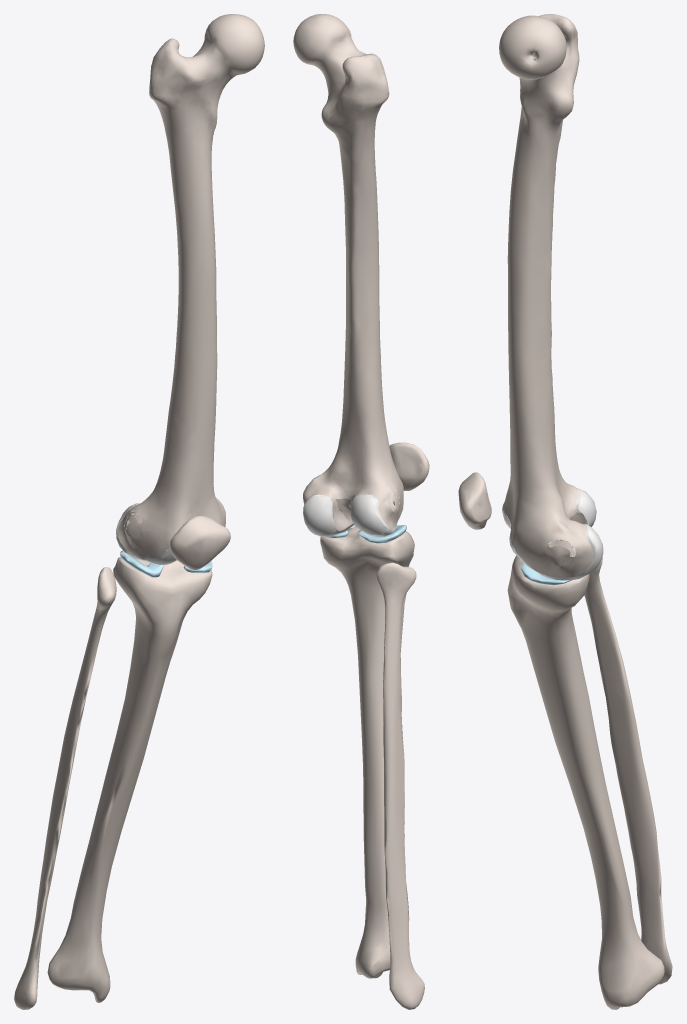
Rendered from vh_m_knee_r-40.glb.
3 views of the same model, side by side, from view 1: azimuth 30°, elevation 25°; view 2: azimuth 150°, elevation 25°; view 3: azimuth 270°, elevation 25° (orthographic). The views are drawn at different scales.
Visible parts, largest first — view 1: VH_M_femur_R, VH_M_tibia_R, VH_M_fibula_R, VH_M_patella_R, VH_M_meniscus_R; view 2: VH_M_femur_R, VH_M_tibia_R, VH_M_fibula_R, VH_M_patella_R, VH_M_medial_condyle_of_right_femur_inf, VH_M_lateral_condyle_of_femur_inf_R, VH_M_meniscus_R, VH_M_articular_cartilage_of_knee_R; view 3: VH_M_femur_R, VH_M_tibia_R, VH_M_fibula_R, VH_M_patella_R, VH_M_articular_cartilage_of_knee_R.
Boxes of the visible parts, bbox=[...] form: VH_M_femur_R: bbox=[118, 14, 264, 558]; VH_M_tibia_R: bbox=[47, 557, 212, 1002]; VH_M_fibula_R: bbox=[14, 567, 116, 1009]; VH_M_patella_R: bbox=[170, 515, 230, 569]; VH_M_meniscus_R: bbox=[120, 550, 212, 577]; VH_M_femur_R: bbox=[293, 14, 403, 528]; VH_M_tibia_R: bbox=[320, 526, 414, 978]; VH_M_fibula_R: bbox=[376, 562, 424, 1009]; VH_M_patella_R: bbox=[389, 442, 429, 490]; VH_M_medial_condyle_of_right_femur_inf: bbox=[303, 495, 336, 535]; VH_M_lateral_condyle_of_femur_inf_R: bbox=[351, 495, 386, 534]; VH_M_meniscus_R: bbox=[329, 525, 406, 543]; VH_M_articular_cartilage_of_knee_R: bbox=[312, 484, 403, 537]; VH_M_femur_R: bbox=[499, 14, 592, 577]; VH_M_tibia_R: bbox=[507, 540, 664, 1009]; VH_M_fibula_R: bbox=[584, 556, 672, 984]; VH_M_patella_R: bbox=[458, 472, 491, 529]; VH_M_articular_cartilage_of_knee_R: bbox=[502, 488, 595, 580].
Bounding box in the file's own units: 0.1735 × 0.8875 × 0.1646.
